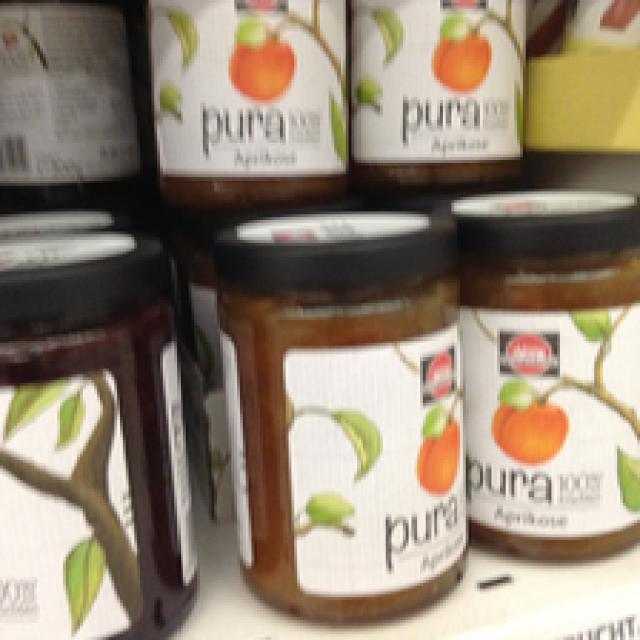groceries: (206, 205, 468, 626), (0, 232, 203, 637), (440, 183, 637, 560), (143, 0, 348, 209), (348, 0, 526, 200)
